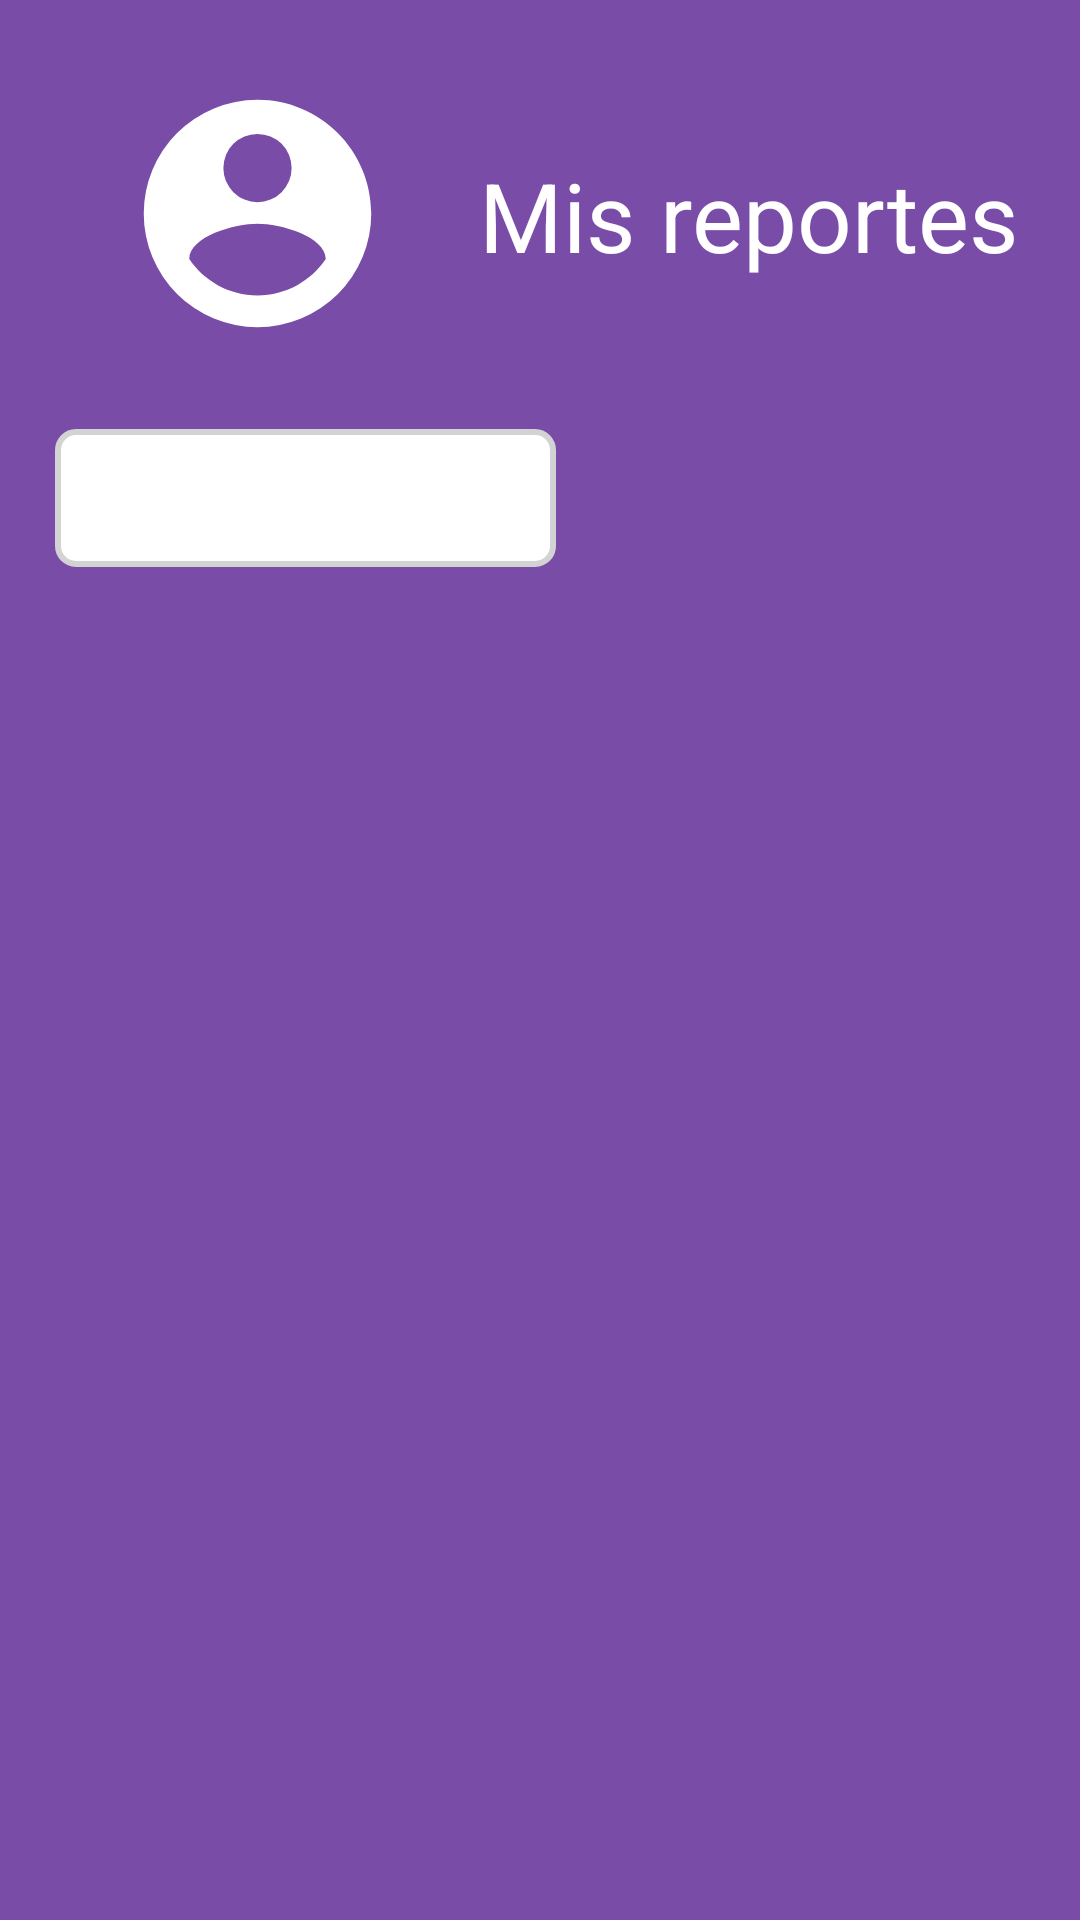

Locate icon controls on the screen. Image size 1080 × 1920, boxes as (x1, y1, x2, y2).
account circle: (143, 99, 372, 328)
